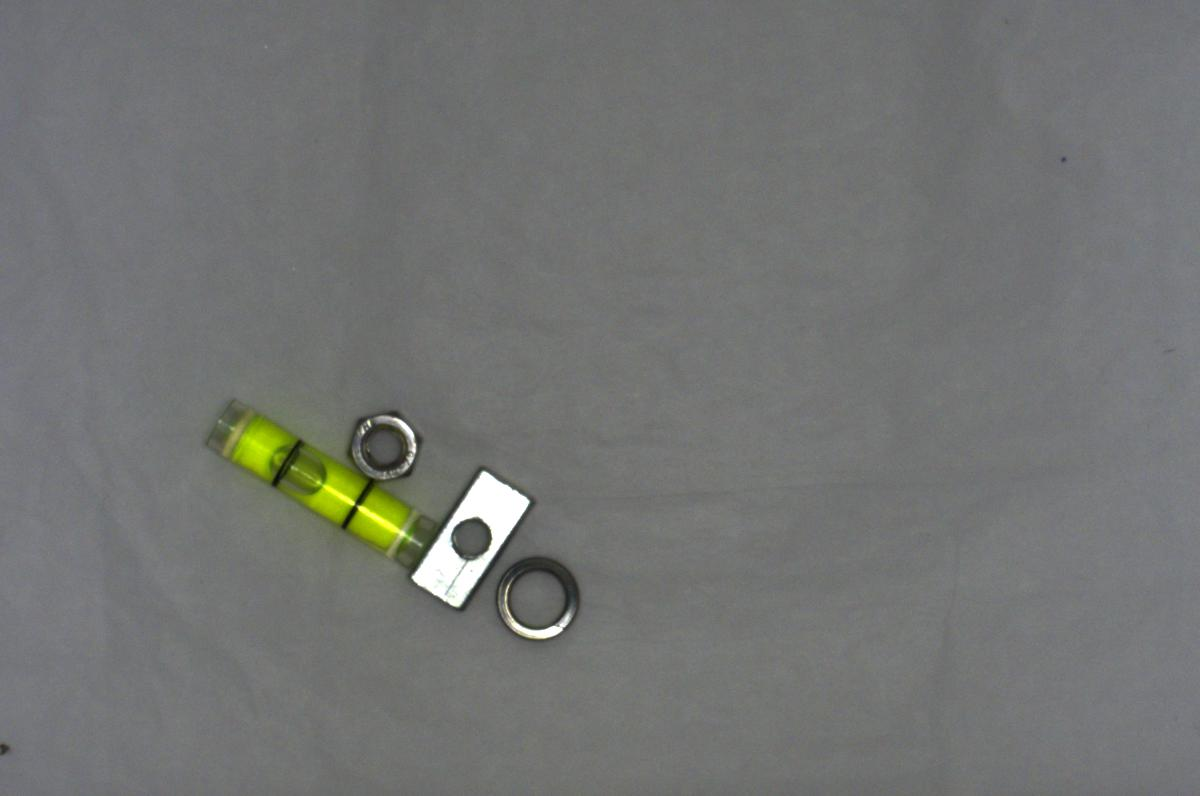Hexagon nut: (351, 403, 425, 486)
Horizontal bubble: (201, 398, 435, 572)
Rectangular nut: (406, 461, 537, 608)
Spring washer: (492, 552, 587, 643)
